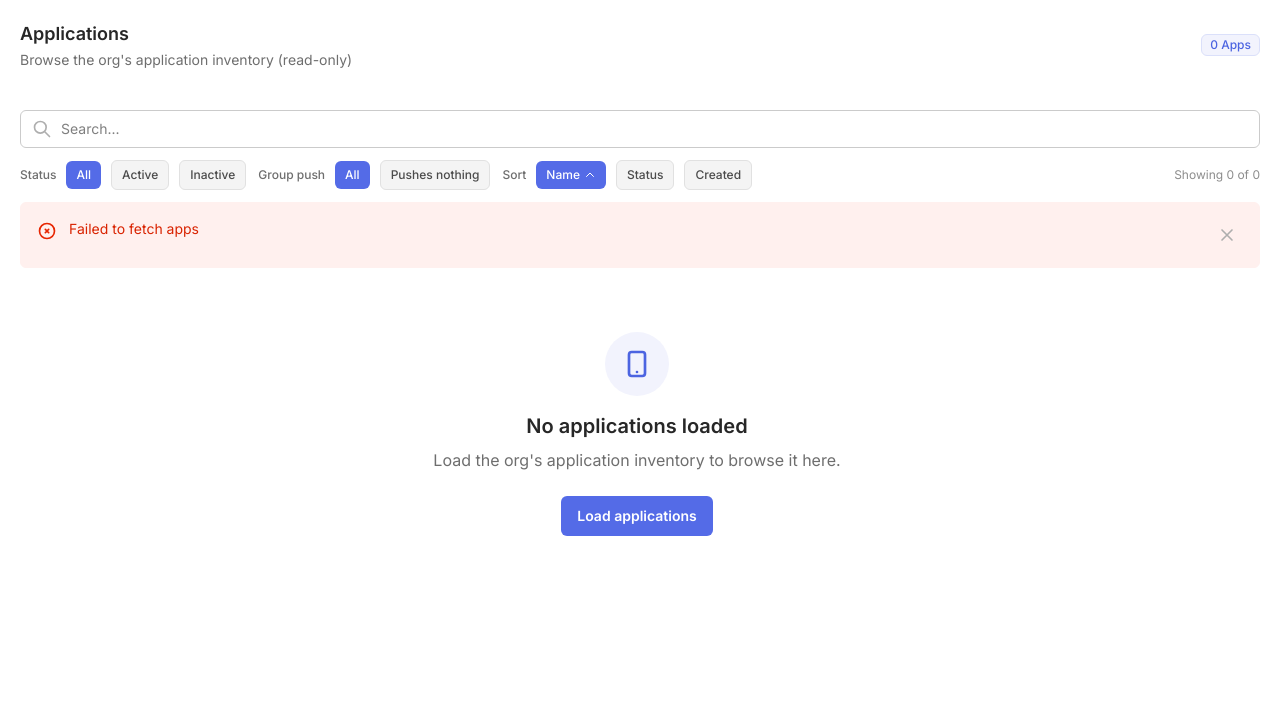
Test: AppsTab › banners a load failure as a dismissible danger alert
The width and height of the screenshot is (1280, 720).
Expected: the text "Failed to fetch apps" is shown, [69,219,199,239]
Click the button named "Dismiss message". click: x=1227, y=235
box: [1211,219,1243,251]
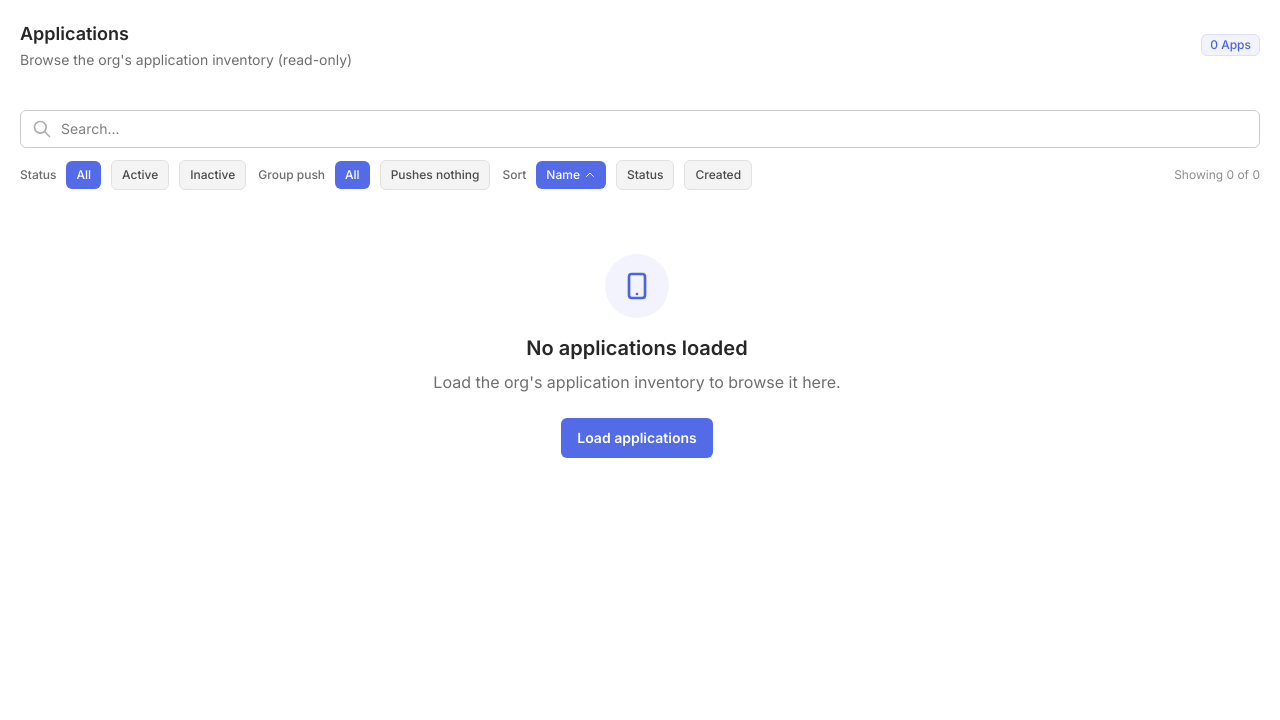
Expected: the message "Failed to fetch apps" is gone
